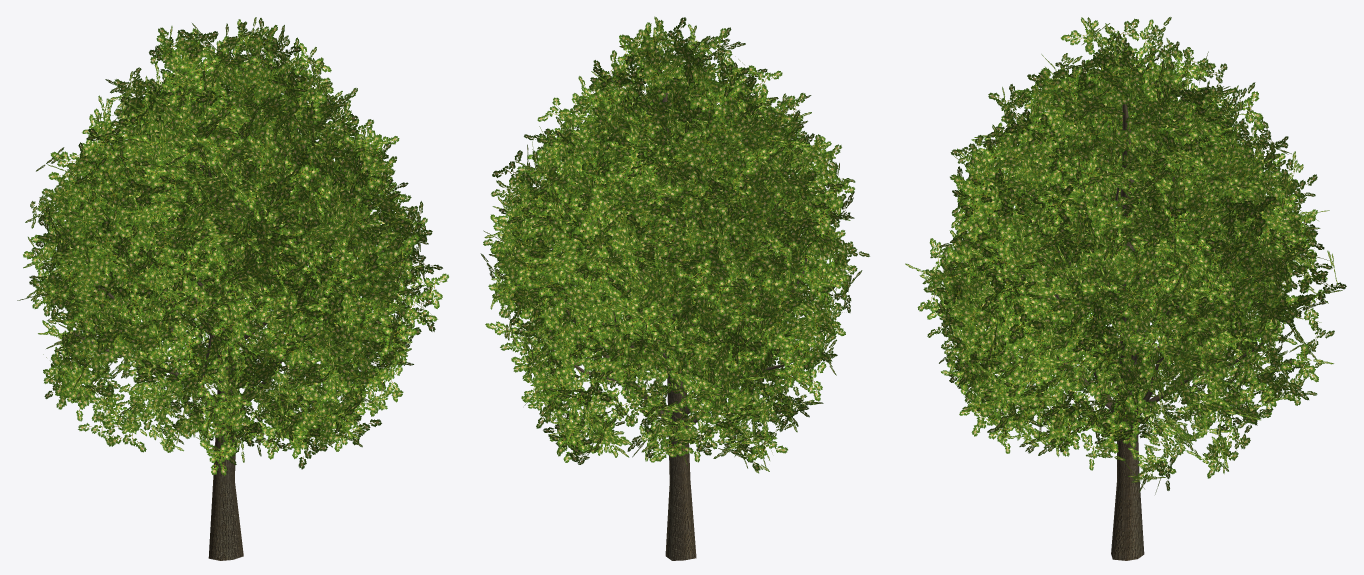
The model's file is Tilia_Americana_Spring_Adult.glb.
3 renders of one model, left to right at view 1: azimuth 30°, elevation 25°; view 2: azimuth 150°, elevation 25°; view 3: azimuth 270°, elevation 25°, orthographic.
Parts seen in each view (by area): view 1: Tilia_Americana_Spring_Adult__LOD3; view 2: Tilia_Americana_Spring_Adult__LOD3; view 3: Tilia_Americana_Spring_Adult__LOD3.
Boxes of the visible parts, x1,y1,x2,y2 form: Tilia_Americana_Spring_Adult__LOD3: (17, 17, 448, 560); Tilia_Americana_Spring_Adult__LOD3: (480, 16, 869, 560); Tilia_Americana_Spring_Adult__LOD3: (905, 17, 1346, 560).
Bounding box in the file's own units: 21.6 × 31.12 × 23.49.
2 materials, 2 textured.
